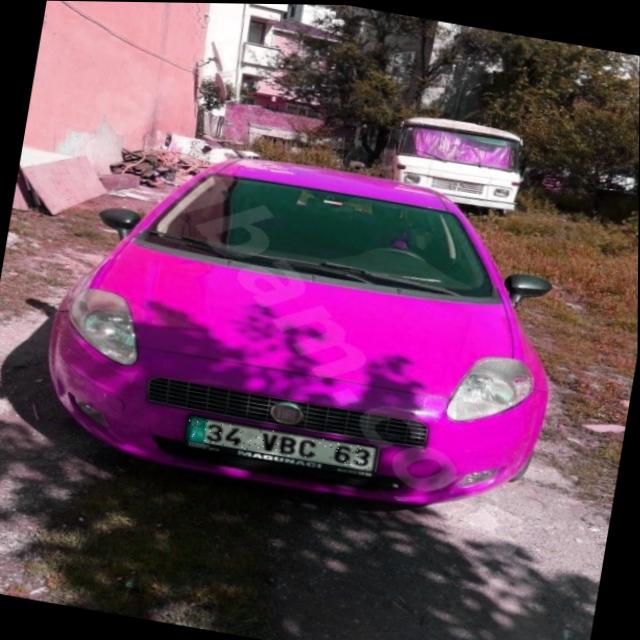license_plate: (186, 415, 379, 471)
